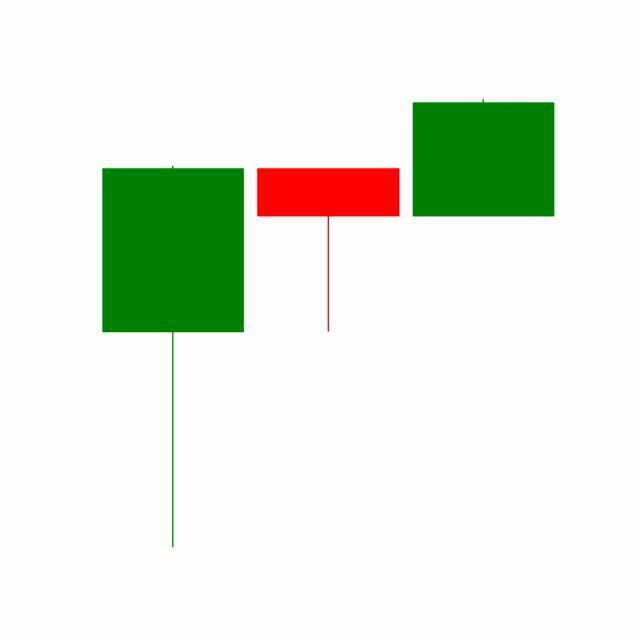Hanging Man: (250, 167, 407, 335)
